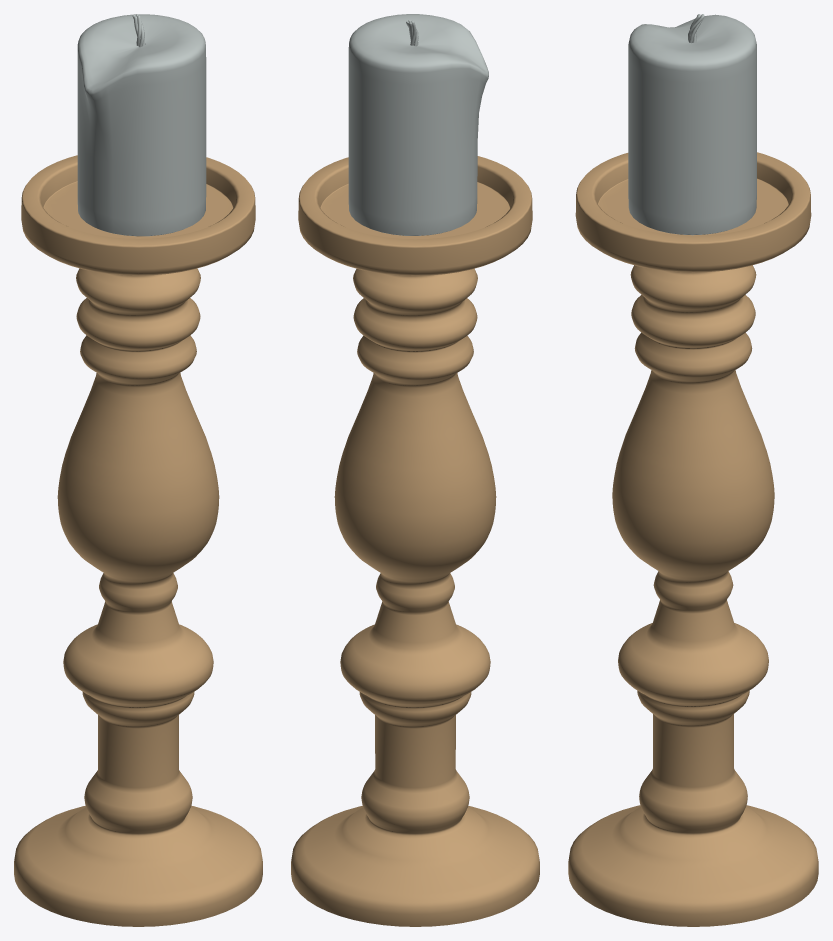
File: decor_candle_g01.glb
3 views of the same model, side by side, from view 1: azimuth 30°, elevation 25°; view 2: azimuth 150°, elevation 25°; view 3: azimuth 270°, elevation 25° (orthographic).
Size of the model in its own units: 0.0762 by 0.2889 by 0.0762.
